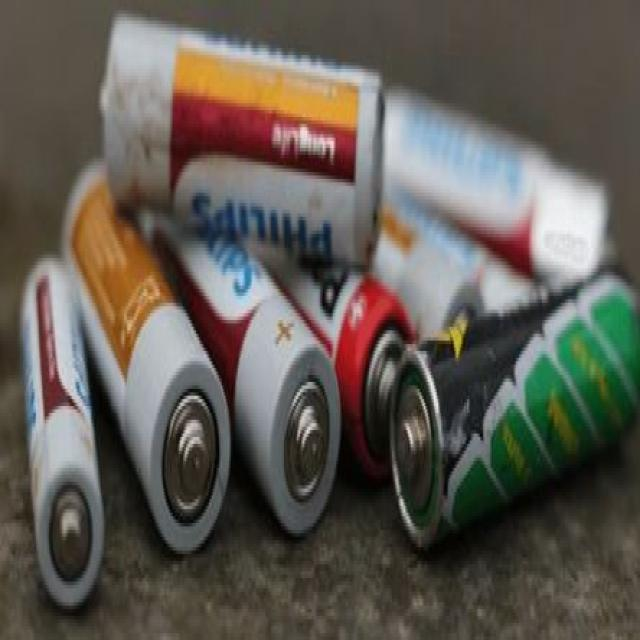electronic: (94, 11, 390, 280), (377, 292, 640, 591), (137, 193, 353, 556), (52, 160, 236, 574), (8, 243, 113, 627), (276, 202, 401, 524)
